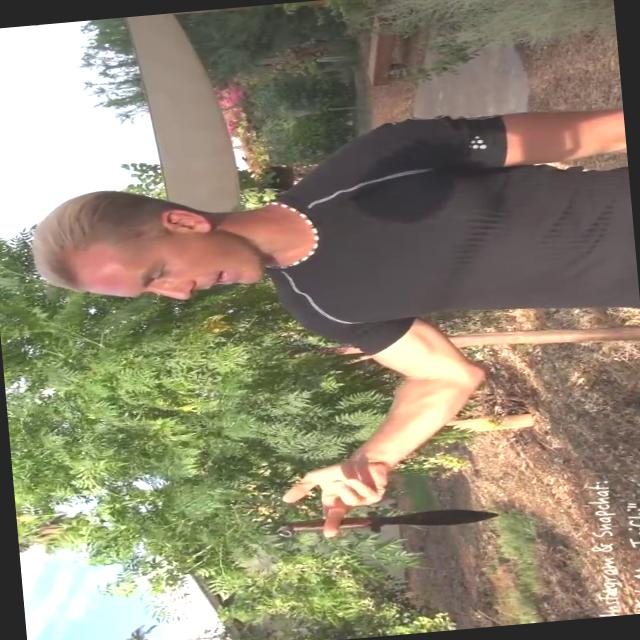knife: (244, 494, 510, 556)
